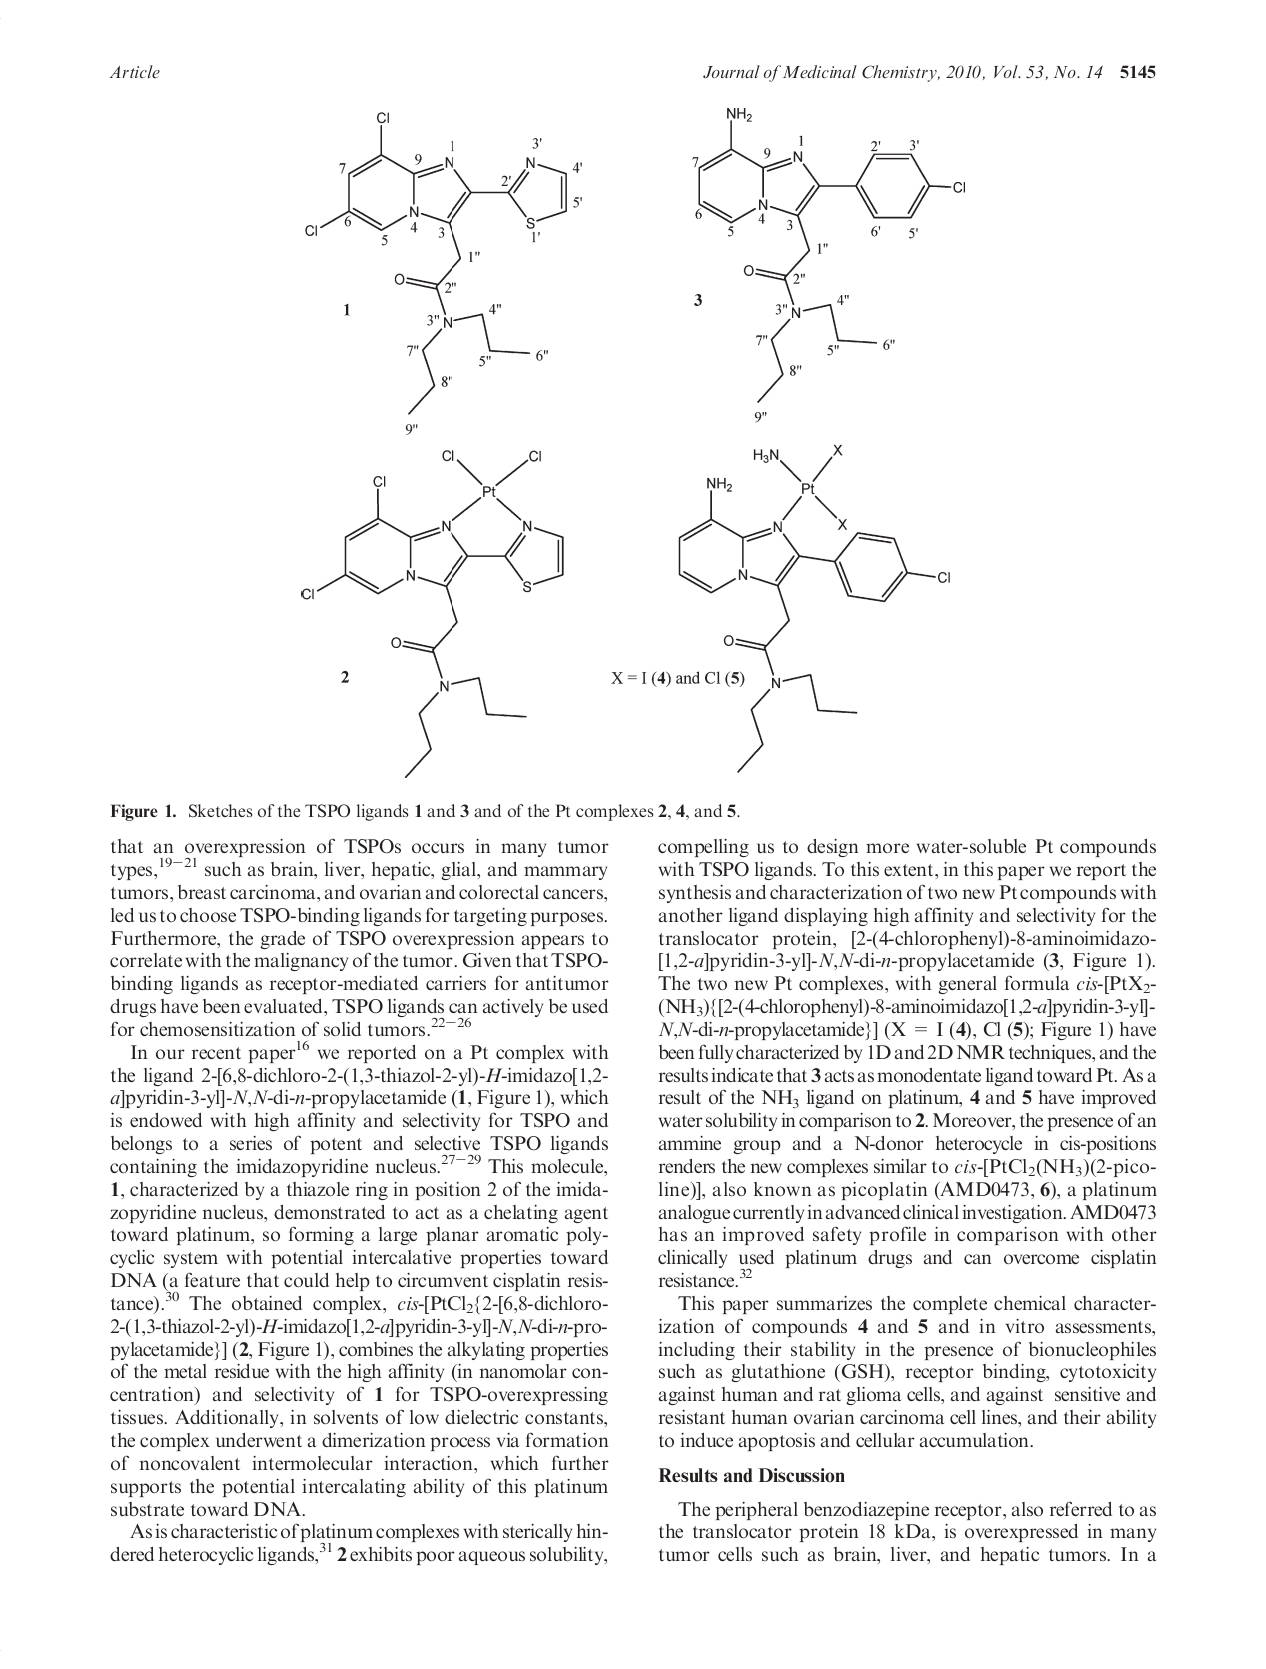exist_molecular: (678, 438, 952, 774), (302, 110, 582, 438), (301, 446, 565, 782), (689, 102, 965, 406)
